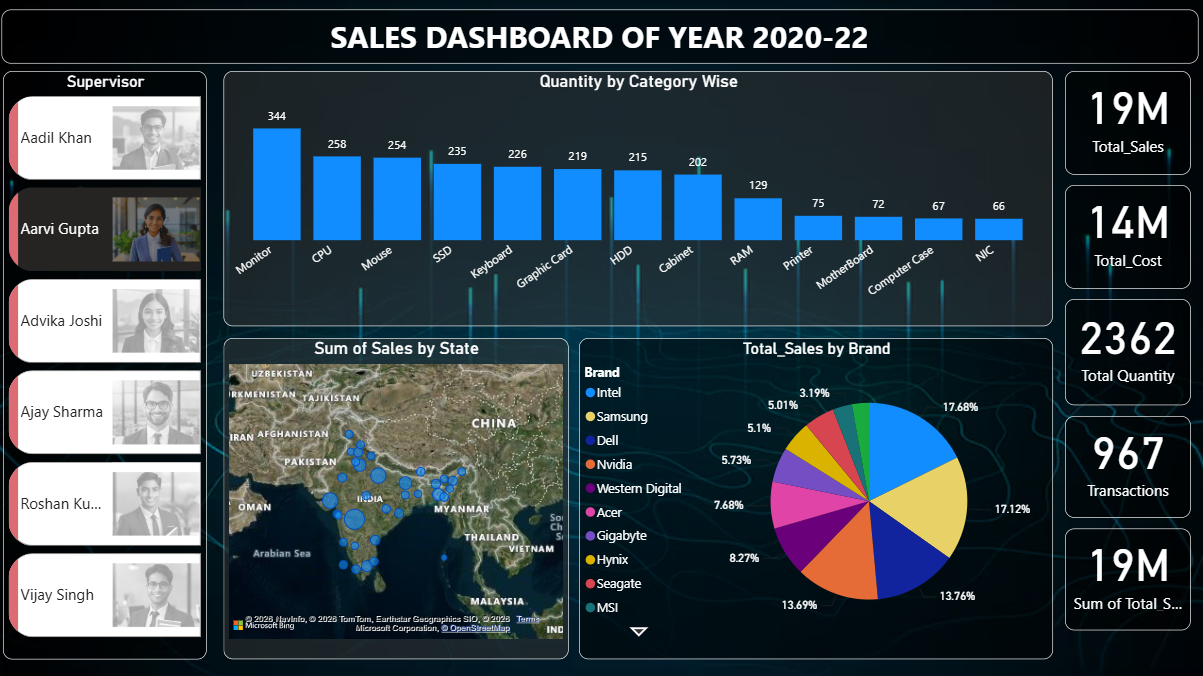

Layout of this report page (visuals, bound fields, positions):
{"tool":"powerbi","page":{"name":"Page 1","canvas":[1280,720],"ordinal":0},"visuals":[{"type":"textbox","box":[4.8,11.1,1269.3,57.3],"z":0},{"type":"card","fields":{"Values":["Sum(Sales_Data.Total_Sales)"]},"box":[1132.5,76.3,133.6,109.8],"z":1000},{"type":"card","fields":{"Values":["Sum(Sales_Data.Total_Cost)"]},"box":[1132.5,197.2,133.6,109.8],"z":2000},{"type":"card","fields":{"Values":["Sum(Sales_Data.Quantity)"]},"box":[1132.5,318.1,133.6,112.9],"z":3000},{"type":"card","fields":{"Values":["CountNonNull(Sales_Data.Order_Number)"]},"box":[1132.5,442.2,133.6,108.2],"z":4000},{"type":"card","fields":{"Values":["Sum(Sales_Data.Total_Sales)"]},"box":[1132.5,561.5,133.6,108.2],"z":5000},{"type":"clusteredColumnChart","title":"Quantity by Category Wise","fields":{"Y":["Sum(Sales_Data.Quantity)"],"Category":["Sales_Data.Category"]},"box":[240.2,76.3,879.6,270.4],"z":6000},{"type":"pieChart","title":"Total_Sales by Brand","fields":{"Y":["Sum(Sales_Data.Total_Sales)"],"Category":["Sales_Data.Brand"]},"box":[617.2,359.5,502.6,340.4],"z":7000},{"type":"map","fields":{"Category":["State_list.State"],"Size":["Sum(Sales_Data.Sales)"]},"box":[240.2,359.5,365.8,340.4],"z":8000},{"type":"advancedSlicerVisual","fields":{"Values":["Supervisor.Supervisor"]},"box":[6,76,216,624],"z":9000}]}

Visuals, with their boxes in screenshot pixels (x1, y1, x2, y2), scaled from the page's 1280x720 canvas onto the 1203x676 screenshot:
textbox: <region>5, 10, 1197, 64</region>
card - Sum(Sales_Data.Total_Sales): <region>1064, 72, 1190, 175</region>
card - Sum(Sales_Data.Total_Cost): <region>1064, 185, 1190, 288</region>
card - Sum(Sales_Data.Quantity): <region>1064, 299, 1190, 405</region>
card - CountNonNull(Sales_Data.Order_Number): <region>1064, 415, 1190, 517</region>
card - Sum(Sales_Data.Total_Sales): <region>1064, 527, 1190, 629</region>
"Quantity by Category Wise" clusteredColumnChart: <region>226, 72, 1052, 326</region>
"Total_Sales by Brand" pieChart: <region>580, 338, 1052, 657</region>
map - State_list.State x Sum(Sales_Data.Sales): <region>226, 338, 570, 657</region>
advancedSlicerVisual - Supervisor.Supervisor: <region>6, 71, 209, 657</region>
